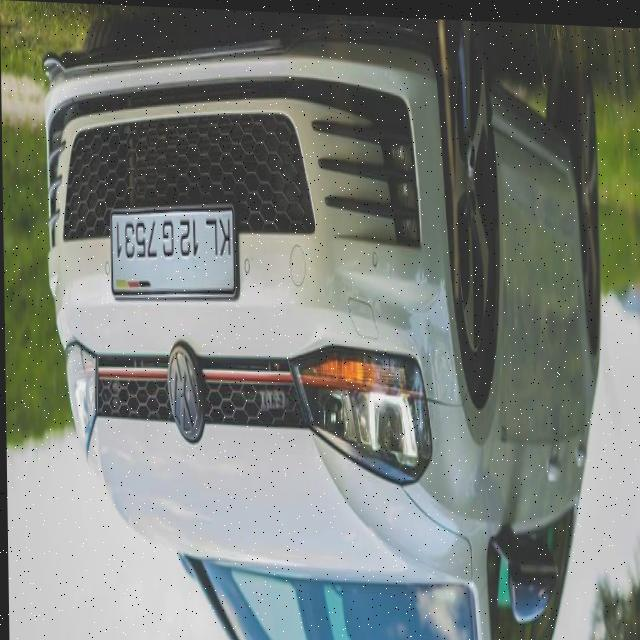plate: (109, 199, 237, 303)
